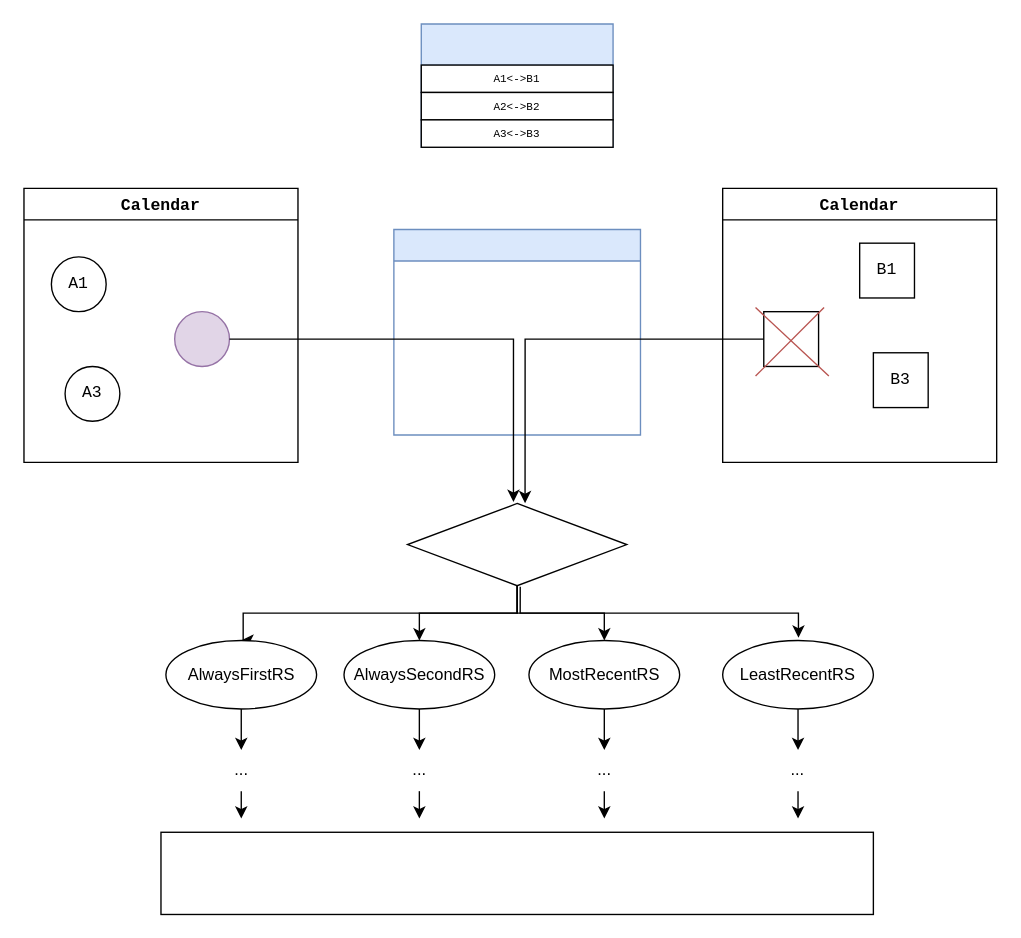
The diagram is 1021 pixels wide and 938 high, and some of its shapes have lost their labels. The shapes that lost their labels are listed below. From the top down, each one's box as (x1, y1, x2, y2) in pixels, then its label:
(420, 23, 613, 147): A_to_B (bidict)
(173, 310, 229, 366): A2'
(393, 228, 640, 435): Synchronizer
(762, 310, 819, 366): B2
(406, 502, 627, 586): Resolution Strategy
(160, 831, 873, 914): Select appropriate item, update A_to_B mappings
